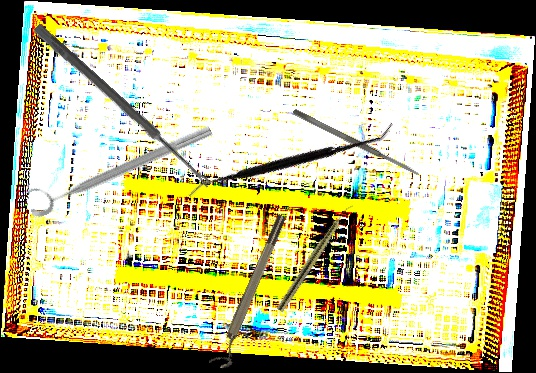Fixation Ring: (22, 111, 215, 220), (208, 212, 296, 372)
Handpiece: (275, 200, 355, 314)
Spatula Surgical: (186, 52, 395, 267), (291, 107, 421, 179)
Surgical Spoon: (32, 23, 214, 189)
